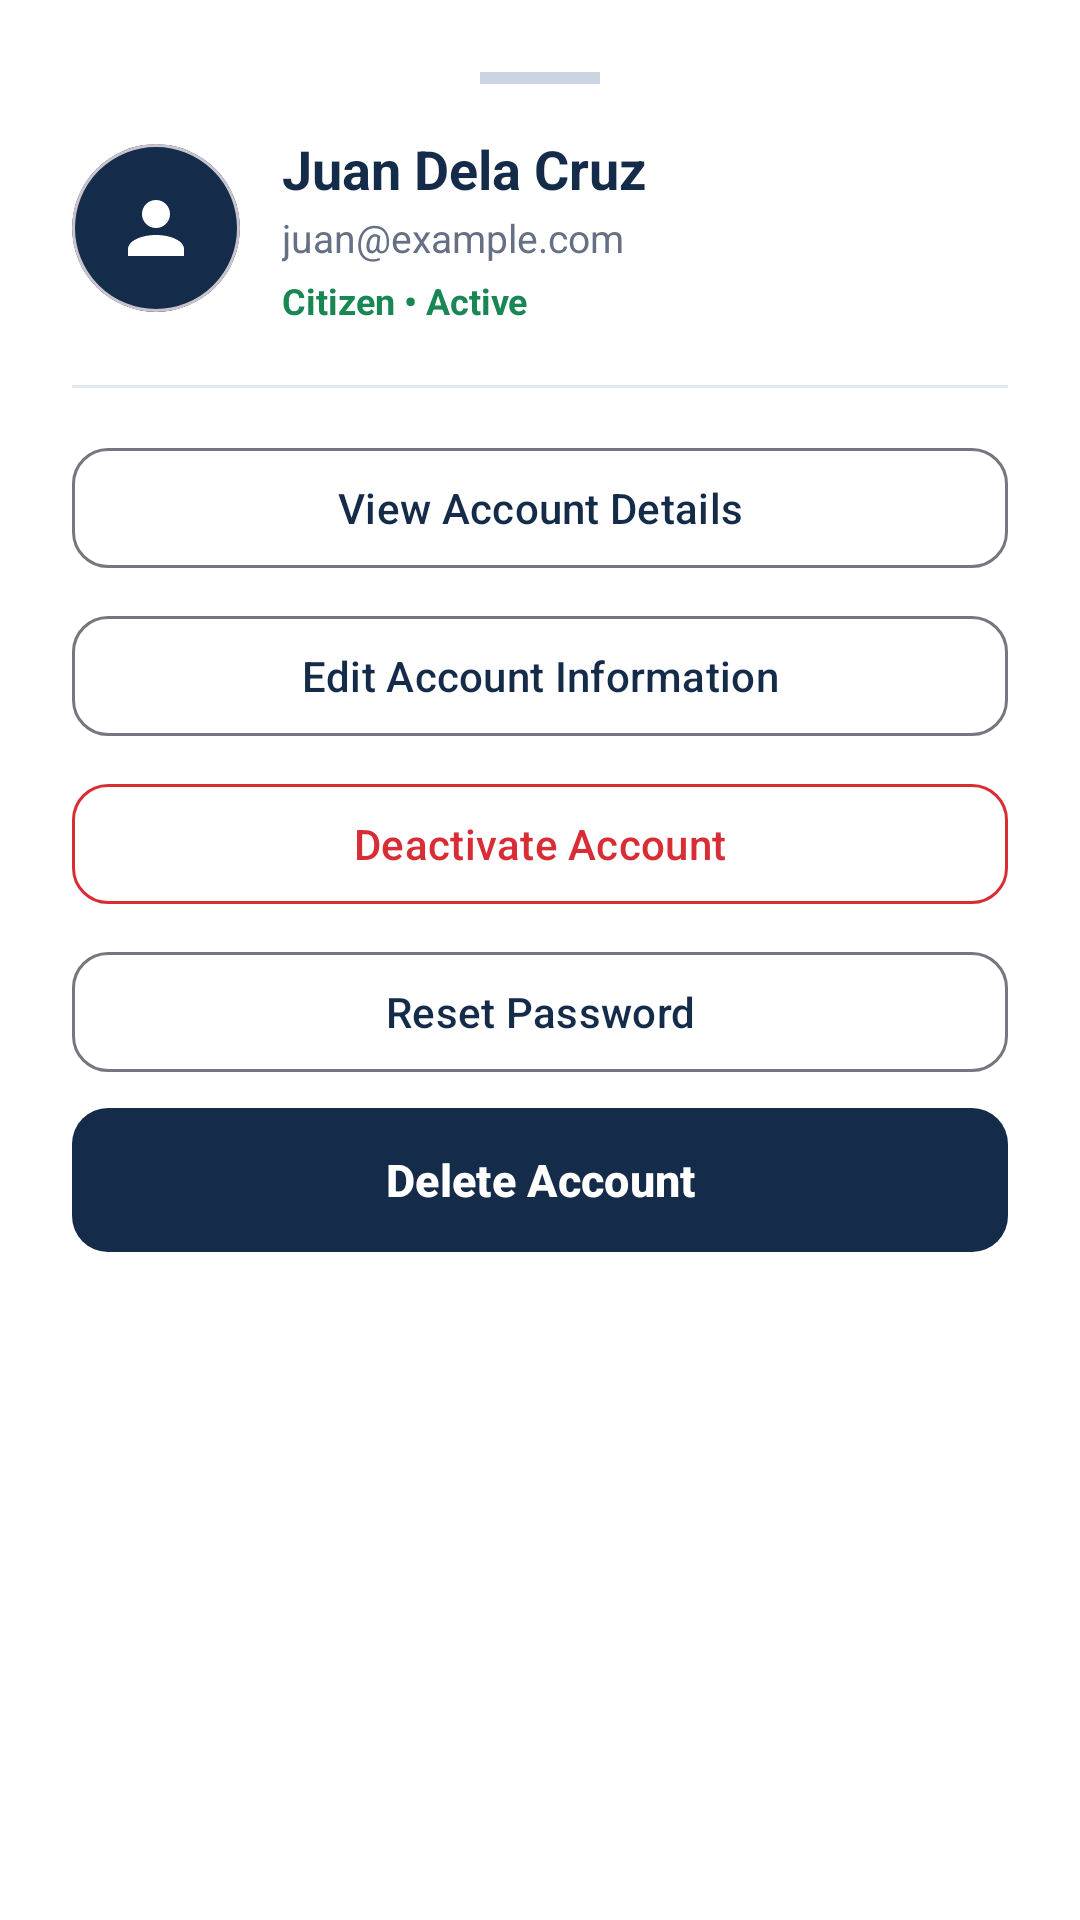

Point at icon controls on the screen. Image size 1080×1920, points as [x,y].
user: [156,228]
